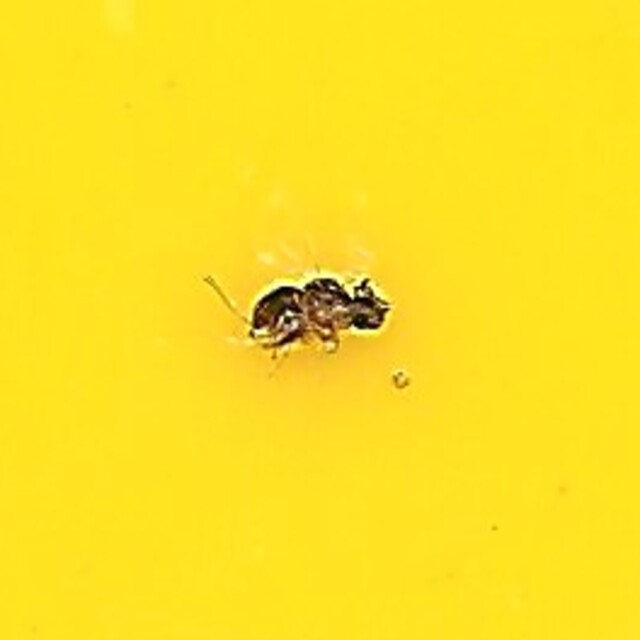Brachycera: (242, 268, 398, 372)
